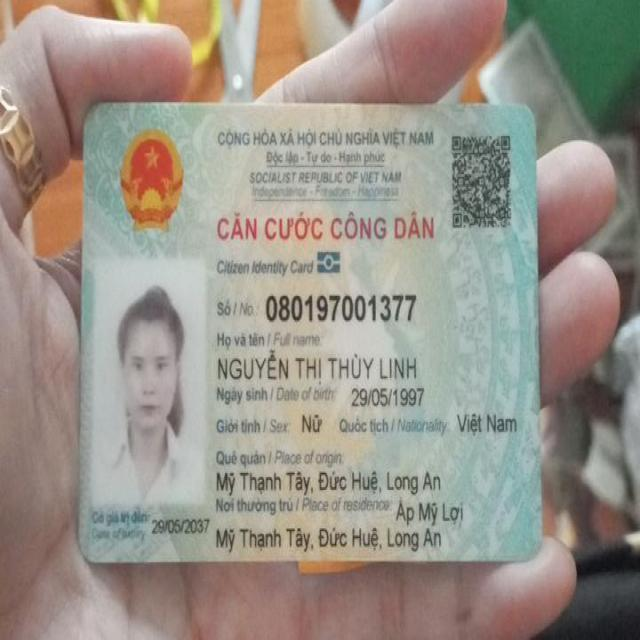bottom_left: (60, 530, 114, 580)
bottom_right: (505, 524, 554, 574)
image_person: (98, 261, 210, 504)
top_left: (70, 84, 123, 138)
top_right: (502, 80, 548, 135)
